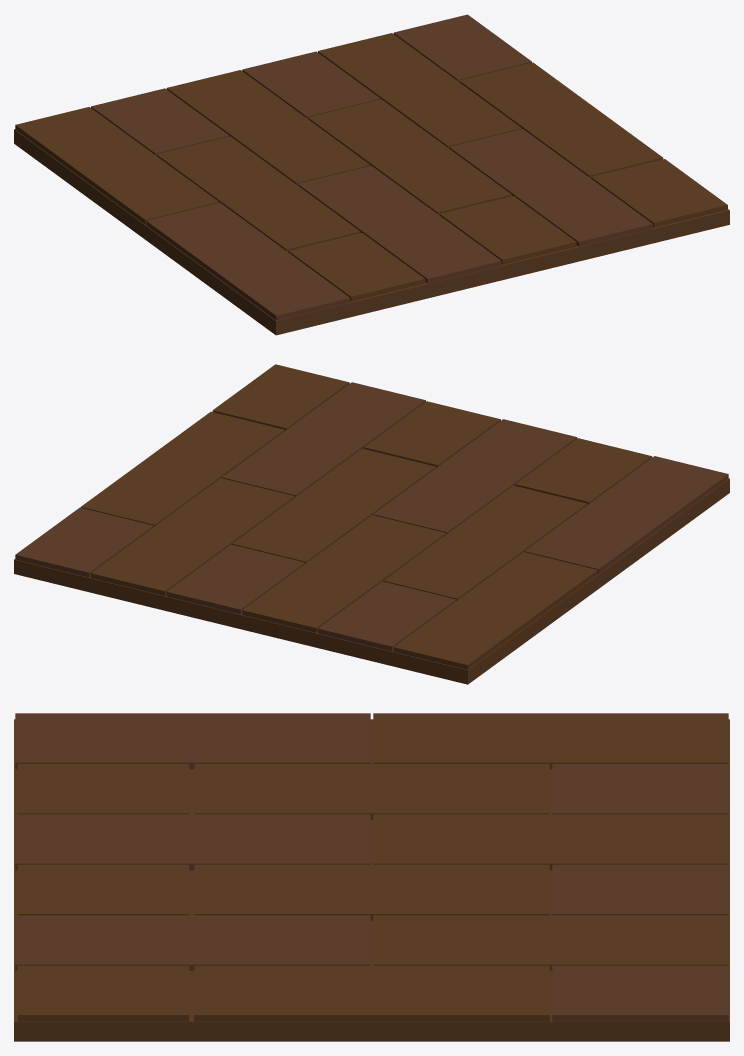
Rendered from PR_Building_Zemin_Parke.fbx.
3 views of the same model, one above another, from view 1: azimuth 30°, elevation 25°; view 2: azimuth 150°, elevation 25°; view 3: azimuth 270°, elevation 25° (orthographic). The views are drawn at different scales.
Visible parts, largest first — view 1: PR_Building_Zemin_Parke; view 2: PR_Building_Zemin_Parke; view 3: PR_Building_Zemin_Parke.
Part boxes in pixels (x1,y1,x2,y2): PR_Building_Zemin_Parke: (14, 14, 729, 335); PR_Building_Zemin_Parke: (14, 364, 729, 684); PR_Building_Zemin_Parke: (14, 713, 729, 1041).
Size of the model in its own units: 1 by 0.04 by 1.
Materials: 1 (1 with a texture image).
